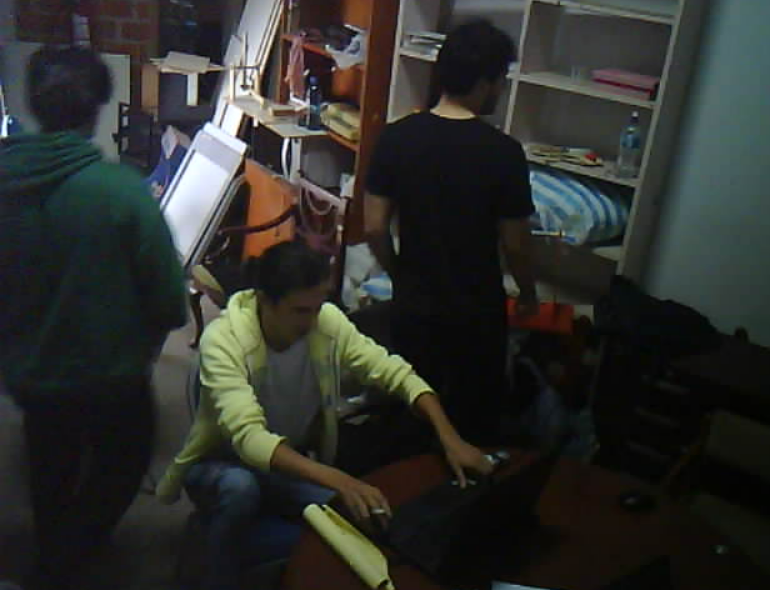person: (144, 246, 499, 590), (0, 24, 190, 590), (351, 8, 543, 425)
